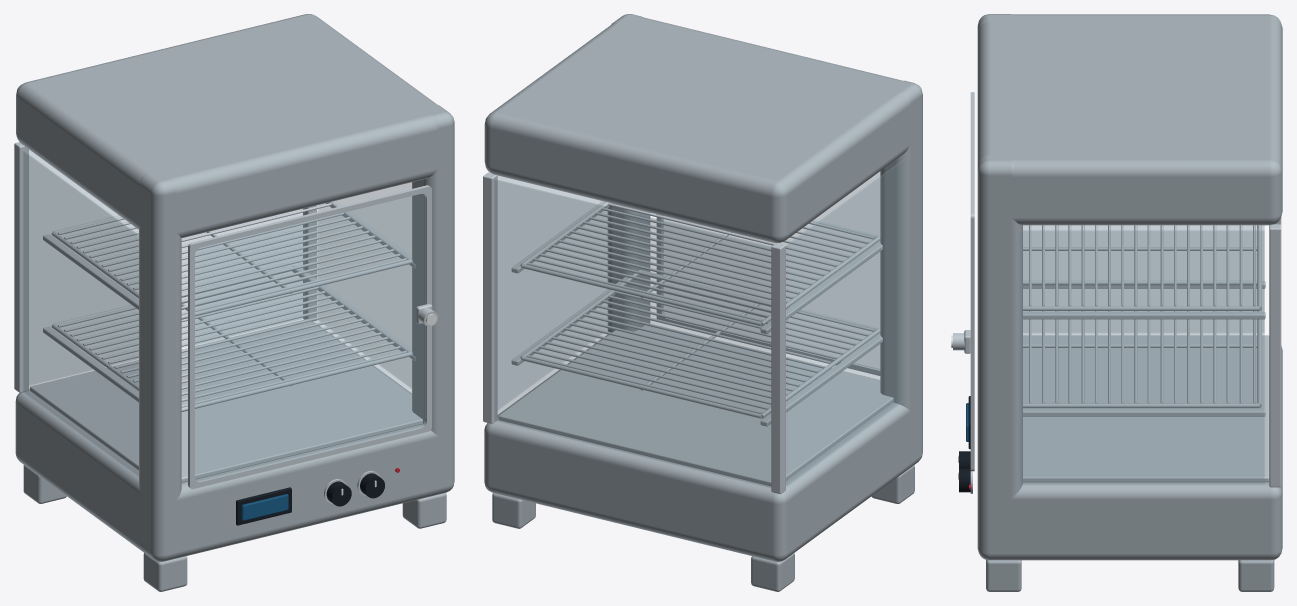
Rendered from pizza-config-2-electric-v1.glb.
3 renders of one model, left to right at view 1: azimuth 30°, elevation 25°; view 2: azimuth 150°, elevation 25°; view 3: azimuth 270°, elevation 25°, orthographic. The views are drawn at different scales.
Visible parts, largest first — view 1: Equipo_Acero_satinado, Puerta_horno_pizza_Vidrio_ilustrativo_sin_especificacion, Equipo_Vidrio_ilustrativo_sin_especificacion, Equipo_Acero_pulido, Rejilla_1_Acero_pulido, Rejilla_2_Acero_pulido, Puerta_horno_pizza_Acero_pulido, Controles_electric_Mandos_y_juntas, Controles_electric_Pantalla_electrica_sin_valores; view 2: Equipo_Acero_satinado, Equipo_Vidrio_ilustrativo_sin_especificacion, Equipo_Acero_pulido, Rejilla_1_Acero_pulido, Rejilla_2_Acero_pulido, Puerta_horno_pizza_Vidrio_ilustrativo_sin_especificacion, Puerta_horno_pizza_Acero_pulido; view 3: Equipo_Acero_satinado, Equipo_Vidrio_ilustrativo_sin_especificacion, Equipo_Acero_pulido, Rejilla_1_Acero_pulido, Rejilla_2_Acero_pulido, Puerta_horno_pizza_Acero_pulido, Controles_electric_Mandos_y_juntas.
Part boxes in pixels (x1,y1,x2,y2): Equipo_Acero_satinado: [15, 14, 454, 591]; Puerta_horno_pizza_Vidrio_ilustrativo_sin_especificacion: [195, 194, 425, 481]; Equipo_Vidrio_ilustrativo_sin_especificacion: [23, 150, 411, 476]; Equipo_Acero_pulido: [14, 142, 422, 482]; Rejilla_1_Acero_pulido: [51, 265, 412, 411]; Rejilla_2_Acero_pulido: [52, 201, 412, 319]; Puerta_horno_pizza_Acero_pulido: [188, 185, 431, 489]; Controles_electric_Mandos_y_juntas: [236, 473, 384, 525]; Controles_electric_Pantalla_electrica_sin_valores: [241, 494, 288, 520]; Equipo_Acero_satinado: [484, 14, 922, 591]; Equipo_Vidrio_ilustrativo_sin_especificacion: [494, 160, 903, 487]; Equipo_Acero_pulido: [483, 172, 893, 494]; Rejilla_1_Acero_pulido: [520, 270, 880, 418]; Rejilla_2_Acero_pulido: [520, 202, 880, 326]; Puerta_horno_pizza_Vidrio_ilustrativo_sin_especificacion: [663, 172, 879, 368]; Puerta_horno_pizza_Acero_pulido: [656, 214, 880, 375]; Equipo_Acero_satinado: [977, 14, 1282, 591]; Equipo_Vidrio_ilustrativo_sin_especificacion: [1020, 223, 1276, 484]; Equipo_Acero_pulido: [1023, 217, 1281, 487]; Rejilla_1_Acero_pulido: [1023, 280, 1261, 408]; Rejilla_2_Acero_pulido: [1023, 225, 1261, 310]; Puerta_horno_pizza_Acero_pulido: [970, 92, 974, 471]; Controles_electric_Mandos_y_juntas: [959, 396, 970, 492].
Bounding box in the file's own units: 0.77 × 1 × 0.695.
